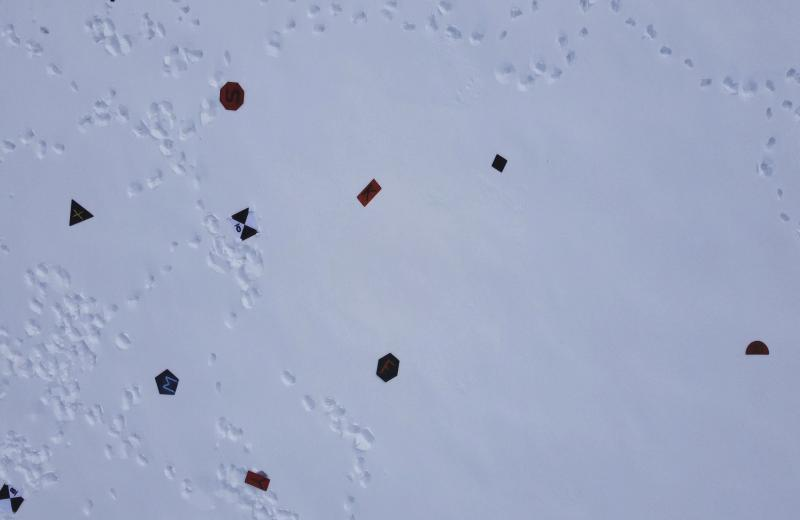Hexagon: (374, 345, 401, 385)
Octagon: (218, 77, 249, 113)
Pentagon: (151, 368, 183, 400)
Rectangle: (355, 178, 385, 210), (244, 468, 273, 493)
Semi Circle: (740, 337, 771, 361)
Square: (490, 152, 508, 174)
Triangle: (64, 197, 95, 223)
